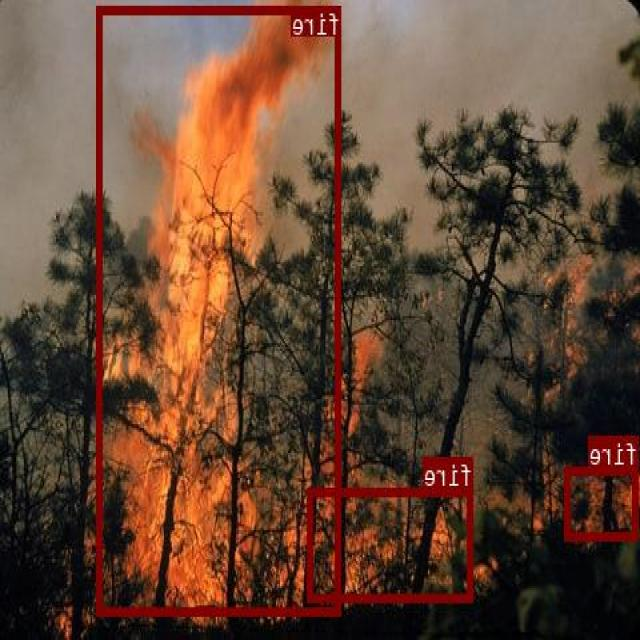fire: (99, 4, 342, 614), (309, 488, 474, 600), (566, 465, 639, 540)
